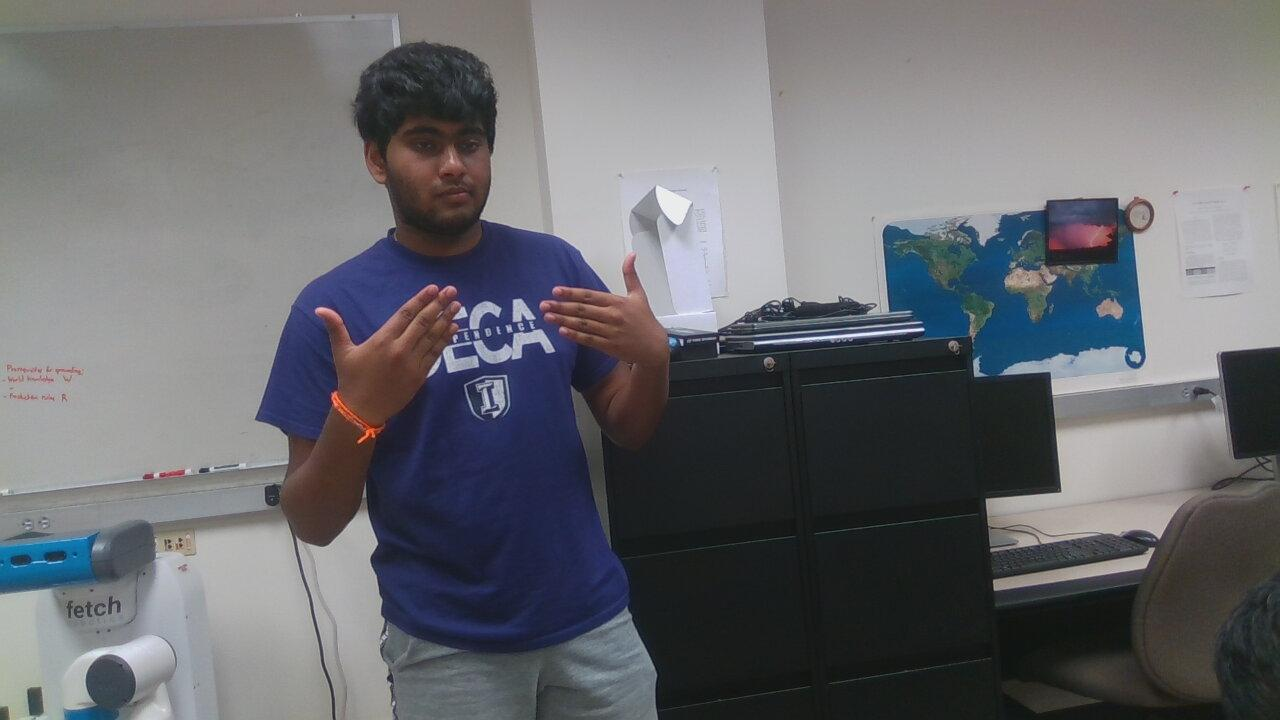hands: (301, 287, 467, 416), (533, 252, 684, 391)
